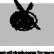not correct: (7, 0, 42, 33)
